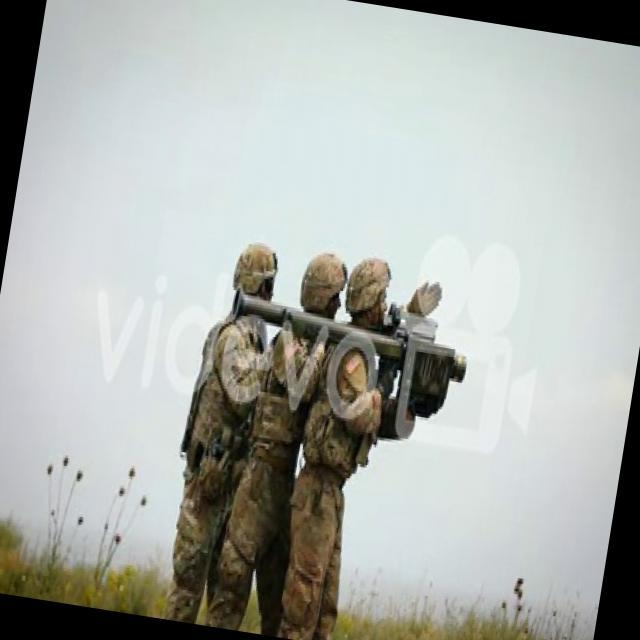rocket: (218, 281, 472, 424)
